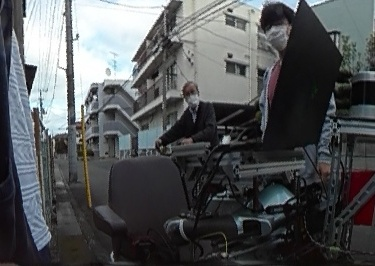person: (162, 79, 216, 142)
